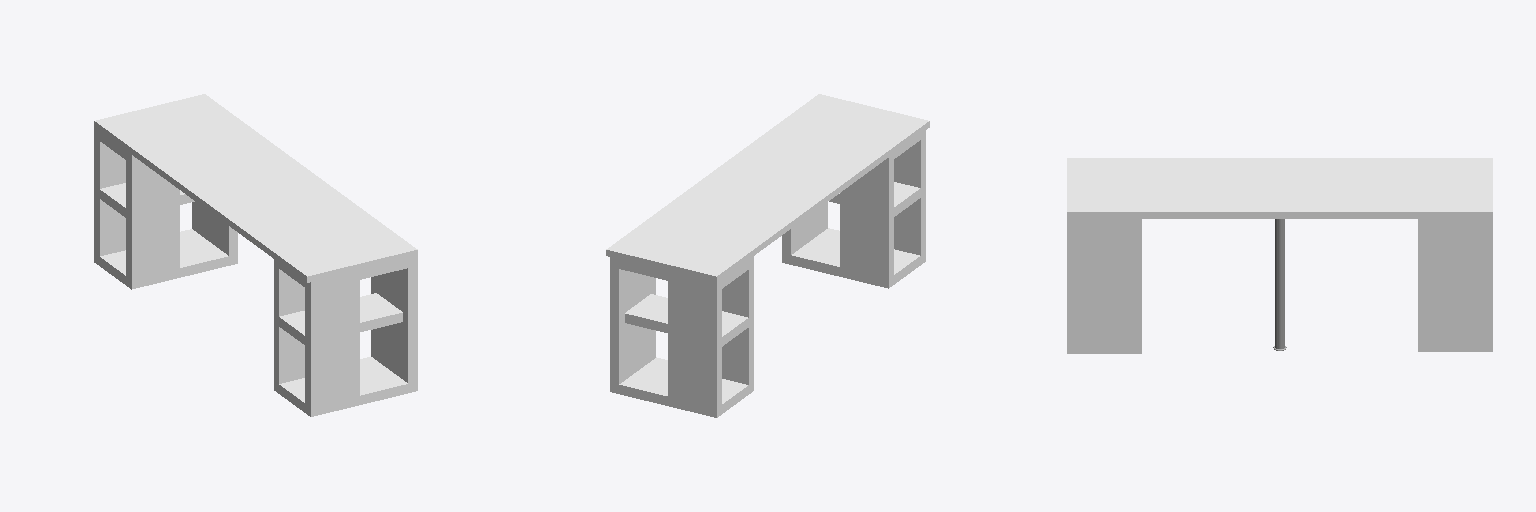
The picture shows the model from 3 angles: view 1: azimuth 30°, elevation 25°; view 2: azimuth 150°, elevation 25°; view 3: azimuth 270°, elevation 25°; orthographic projection.
Parts seen in each view (by area): view 1: Mesh19 VIKA_AMON1 Group1 Model, Mesh11 VIKA_ANNEFORS1 Group1 Model, Mesh17 VIKA_ANNEFORS2 Group1 Model, Mesh9 Group10 VIKA_ANNEFORS1 Group1 Model, Mesh14 Group13 VIKA_ANNEFORS2 Group1 Model, Mesh8 Group9 VIKA_ANNEFORS1 Group1 Model, Mesh18 VIKA_ANNEFORS2 Group1 Model, Mesh12 VIKA_ANNEFORS1 Group1 Model, Mesh10 Group11 VIKA_ANNEFORS1 Group1 Model, Mesh15 Group14 VIKA_ANNEFORS2 Group1 Model, Mesh7 Group8 VIKA_ANNEFORS1 Group1 Model, Mesh16 Group15 VIKA_ANNEFORS2 Group1 Model; view 2: Mesh19 VIKA_AMON1 Group1 Model, Mesh18 VIKA_ANNEFORS2 Group1 Model, Mesh12 VIKA_ANNEFORS1 Group1 Model, Mesh15 Group14 VIKA_ANNEFORS2 Group1 Model, Mesh8 Group9 VIKA_ANNEFORS1 Group1 Model, Mesh14 Group13 VIKA_ANNEFORS2 Group1 Model, Mesh11 VIKA_ANNEFORS1 Group1 Model, Mesh17 VIKA_ANNEFORS2 Group1 Model, Mesh16 Group15 VIKA_ANNEFORS2 Group1 Model, Mesh13 Group12 VIKA_ANNEFORS2 Group1 Model, Mesh9 Group10 VIKA_ANNEFORS1 Group1 Model, Mesh10 Group11 VIKA_ANNEFORS1 Group1 Model; view 3: Mesh19 VIKA_AMON1 Group1 Model, Mesh9 Group10 VIKA_ANNEFORS1 Group1 Model, Mesh15 Group14 VIKA_ANNEFORS2 Group1 Model, Mesh20 Group1 Model, Mesh8 Group9 VIKA_ANNEFORS1 Group1 Model, Mesh14 Group13 VIKA_ANNEFORS2 Group1 Model, Mesh7 Group8 VIKA_ANNEFORS1 Group1 Model, Mesh13 Group12 VIKA_ANNEFORS2 Group1 Model.
Boxes of the visible parts, box(x1,y1,x2,y2) form: Mesh19 VIKA_AMON1 Group1 Model: box(94, 94, 417, 282); Mesh11 VIKA_ANNEFORS1 Group1 Model: box(305, 280, 359, 406); Mesh17 VIKA_ANNEFORS2 Group1 Model: box(126, 161, 179, 279); Mesh9 Group10 VIKA_ANNEFORS1 Group1 Model: box(371, 266, 417, 383); Mesh14 Group13 VIKA_ANNEFORS2 Group1 Model: box(94, 229, 237, 289); Mesh8 Group9 VIKA_ANNEFORS1 Group1 Model: box(274, 357, 417, 416); Mesh18 VIKA_ANNEFORS2 Group1 Model: box(94, 137, 125, 256); Mesh12 VIKA_ANNEFORS1 Group1 Model: box(274, 265, 304, 383); Mesh10 Group11 VIKA_ANNEFORS1 Group1 Model: box(279, 293, 402, 344); Mesh15 Group14 VIKA_ANNEFORS2 Group1 Model: box(192, 201, 237, 255); Mesh7 Group8 VIKA_ANNEFORS1 Group1 Model: box(274, 256, 417, 291); Mesh16 Group15 VIKA_ANNEFORS2 Group1 Model: box(100, 183, 194, 217); Mesh19 VIKA_AMON1 Group1 Model: box(606, 94, 929, 282); Mesh18 VIKA_ANNEFORS2 Group1 Model: box(668, 281, 721, 407); Mesh12 VIKA_ANNEFORS1 Group1 Model: box(840, 160, 893, 278); Mesh15 Group14 VIKA_ANNEFORS2 Group1 Model: box(610, 267, 655, 384); Mesh8 Group9 VIKA_ANNEFORS1 Group1 Model: box(782, 228, 925, 288); Mesh14 Group13 VIKA_ANNEFORS2 Group1 Model: box(610, 357, 753, 417); Mesh11 VIKA_ANNEFORS1 Group1 Model: box(894, 136, 925, 255); Mesh17 VIKA_ANNEFORS2 Group1 Model: box(722, 266, 753, 384); Mesh16 Group15 VIKA_ANNEFORS2 Group1 Model: box(625, 294, 748, 346); Mesh13 Group12 VIKA_ANNEFORS2 Group1 Model: box(610, 256, 753, 292); Mesh9 Group10 VIKA_ANNEFORS1 Group1 Model: box(782, 202, 827, 254); Mesh10 Group11 VIKA_ANNEFORS1 Group1 Model: box(829, 182, 920, 216); Mesh19 VIKA_AMON1 Group1 Model: box(1067, 158, 1492, 218); Mesh9 Group10 VIKA_ANNEFORS1 Group1 Model: box(1067, 228, 1141, 343); Mesh15 Group14 VIKA_ANNEFORS2 Group1 Model: box(1418, 227, 1492, 341); Mesh20 Group1 Model: box(1273, 219, 1286, 350); Mesh8 Group9 VIKA_ANNEFORS1 Group1 Model: box(1067, 344, 1141, 353); Mesh14 Group13 VIKA_ANNEFORS2 Group1 Model: box(1418, 342, 1492, 351); Mesh7 Group8 VIKA_ANNEFORS1 Group1 Model: box(1067, 219, 1141, 227); Mesh13 Group12 VIKA_ANNEFORS2 Group1 Model: box(1418, 219, 1492, 226).
Size of the model in its own units: 23.62 by 28.9 by 78.74.